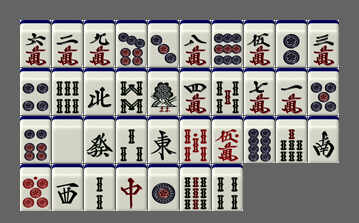0m: (212, 116, 243, 163)
0p: (20, 164, 51, 211)
0s: (180, 116, 211, 163)
1m: (276, 68, 307, 115)
1p: (148, 164, 179, 211)
1s: (148, 68, 179, 115)
1z: (148, 116, 179, 163)
2m: (52, 20, 83, 67)
2p: (276, 20, 307, 67)
2s: (84, 164, 115, 211)
2z: (308, 116, 339, 163)
3m: (308, 20, 339, 67)
3p: (148, 20, 179, 67)
3s: (116, 116, 147, 163)
3z: (52, 164, 83, 211)
4m: (180, 68, 211, 115)
4p: (20, 68, 51, 115)
4s: (212, 164, 243, 211)
4z: (84, 68, 115, 115)
5m: (244, 20, 275, 67)
5p: (308, 68, 339, 115)
5s: (212, 68, 243, 115)
5z: (52, 116, 83, 163)
6m: (20, 20, 51, 67)
6p: (20, 116, 51, 163)
6s: (52, 68, 83, 115)
6z: (84, 116, 115, 163)
7m: (244, 68, 275, 115)
7p: (116, 20, 147, 67)
7s: (276, 116, 307, 163)
7z: (116, 164, 147, 211)
8m: (180, 20, 211, 67)
8p: (244, 116, 275, 163)
8s: (116, 68, 147, 115)
9m: (84, 20, 115, 67)
9p: (212, 20, 243, 67)
9s: (180, 164, 211, 211)
